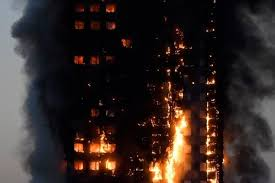fire: (68, 12, 222, 183)
